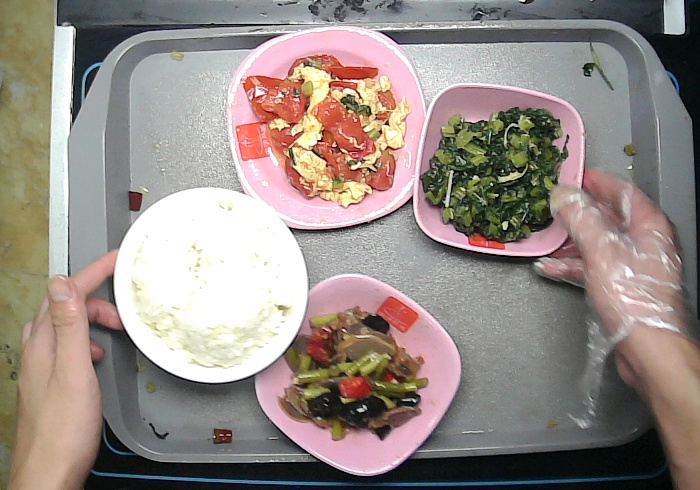SHKJ-Fan_Wan: (111, 182, 313, 389)
SHKJ-Fen_Se_Cai_Die: (249, 269, 465, 481)
SHKJ-Fen_Se_Si_Fang_Cai_Die: (220, 22, 432, 236)
SHKJ-Fen_Se_Xiao_Fang_Die: (408, 79, 589, 262)
